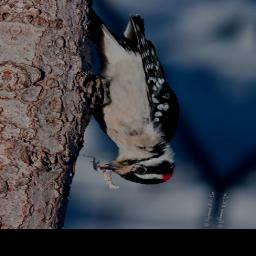Woodpecker: (63, 9, 203, 188)
